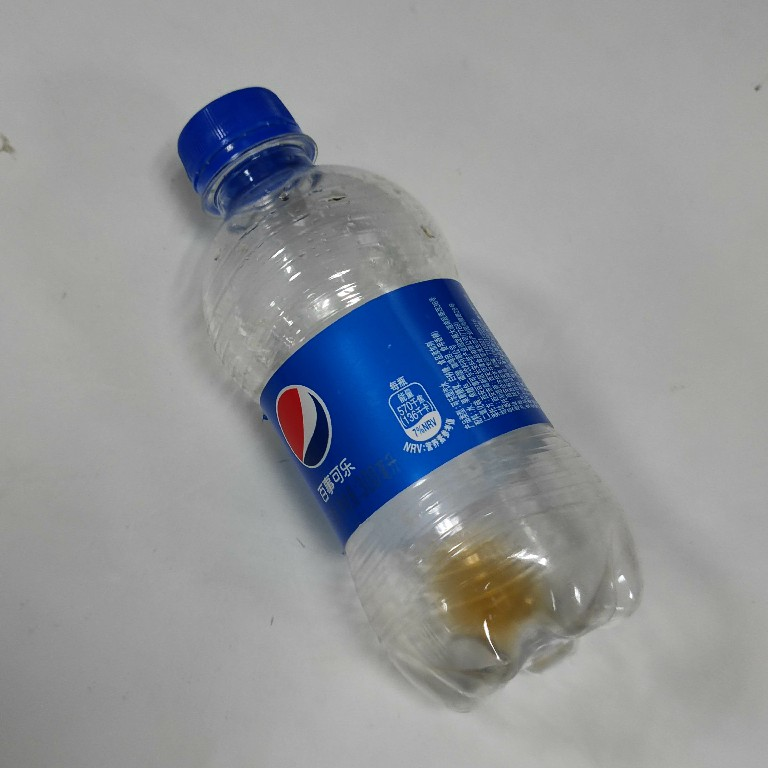bottle: (167, 78, 648, 718)
